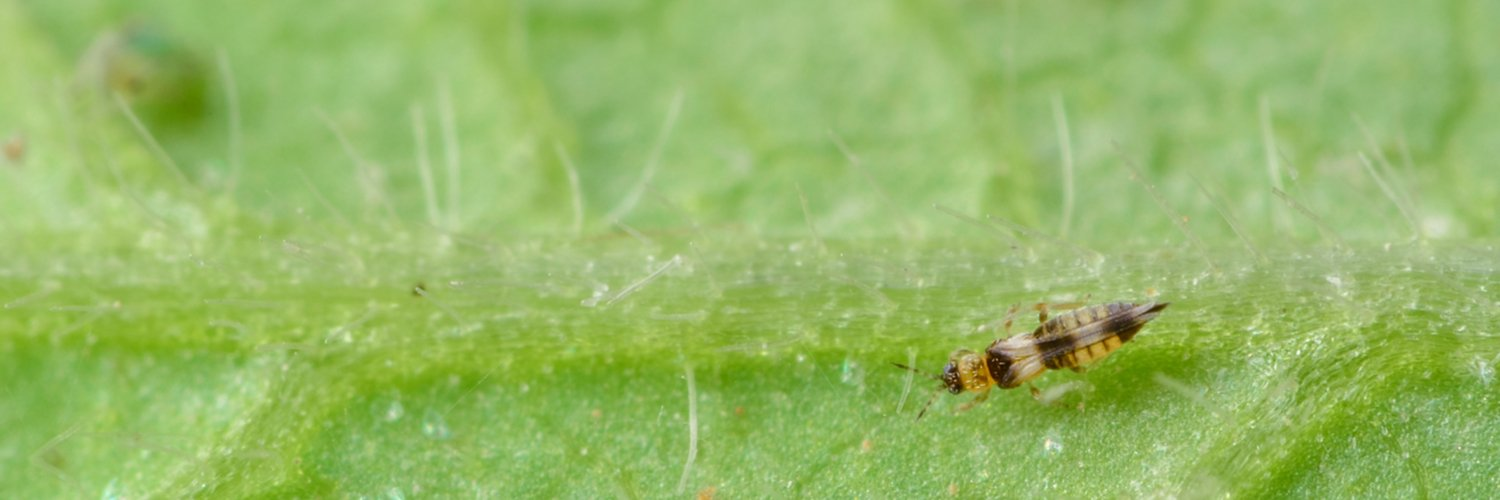Thrips: (918, 290, 1172, 423)
